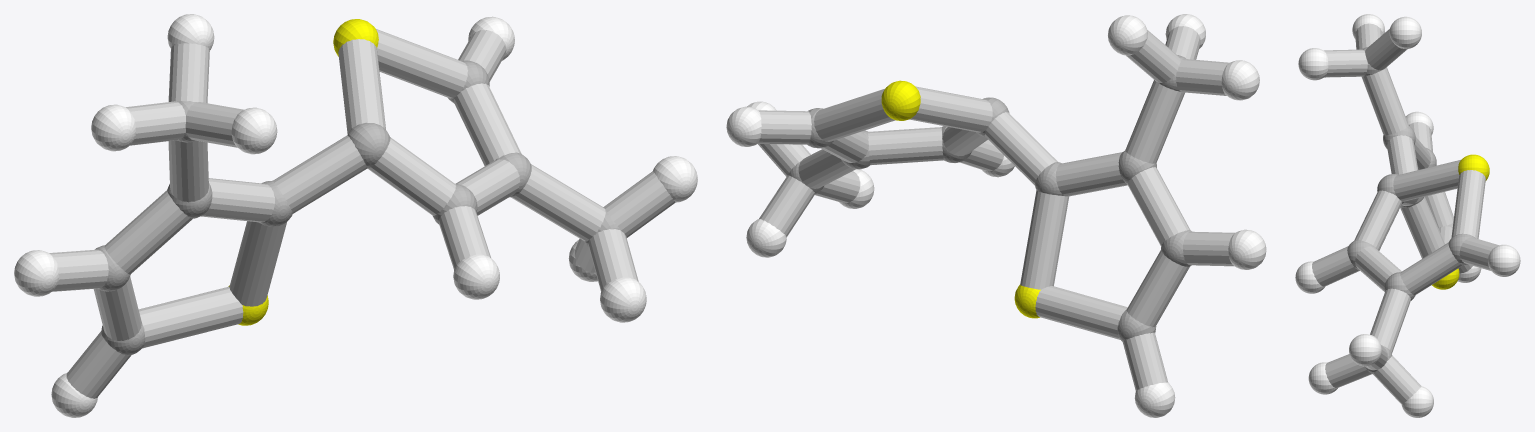
Rendered from Methylthiophene_Phi_50_Theta_290_Methylthiophene.glb.
The picture shows the model from 3 angles, left to right: view 1: azimuth 30°, elevation 25°; view 2: azimuth 150°, elevation 25°; view 3: azimuth 270°, elevation 25°; orthographic projection. The views are drawn at different scales.
Visible parts, largest first — view 1: grp7965, grp3621, grp1, grp7241; view 2: grp7965, grp3621, grp1, grp7241; view 3: grp7965, grp3621, grp1, grp7241.
Part boxes in pixels (x1=…): grp7965: x1=49, y1=29, x2=675, y2=398; grp3621: x1=14, y1=14, x2=697, y2=417; grp1: x1=95, y1=60, x2=619, y2=355; grp7241: x1=228, y1=19, x2=378, y2=325; grp7965: x1=757, y1=26, x2=1235, y2=390; grp3621: x1=726, y1=14, x2=1266, y2=417; grp1: x1=788, y1=55, x2=1191, y2=341; grp7241: x1=881, y1=80, x2=1040, y2=318; grp7965: x1=1312, y1=23, x2=1498, y2=404; grp3621: x1=1295, y1=14, x2=1520, y2=417; grp1: x1=1347, y1=47, x2=1475, y2=373; grp7241: x1=1432, y1=154, x2=1489, y2=289.
Bounding box in the file's own units: 9.46 × 5.83 × 4.12.
